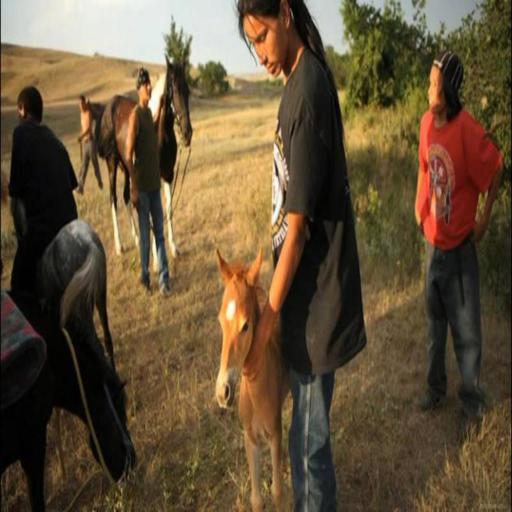Horse: (0, 284, 138, 511), (92, 49, 192, 275), (4, 180, 120, 371), (214, 244, 292, 510)
